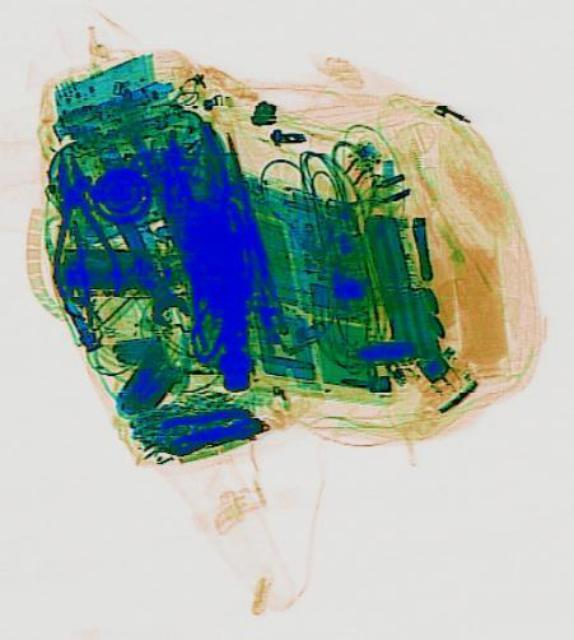Pliers: (30, 149, 122, 303)
Wrench: (104, 209, 191, 333)
